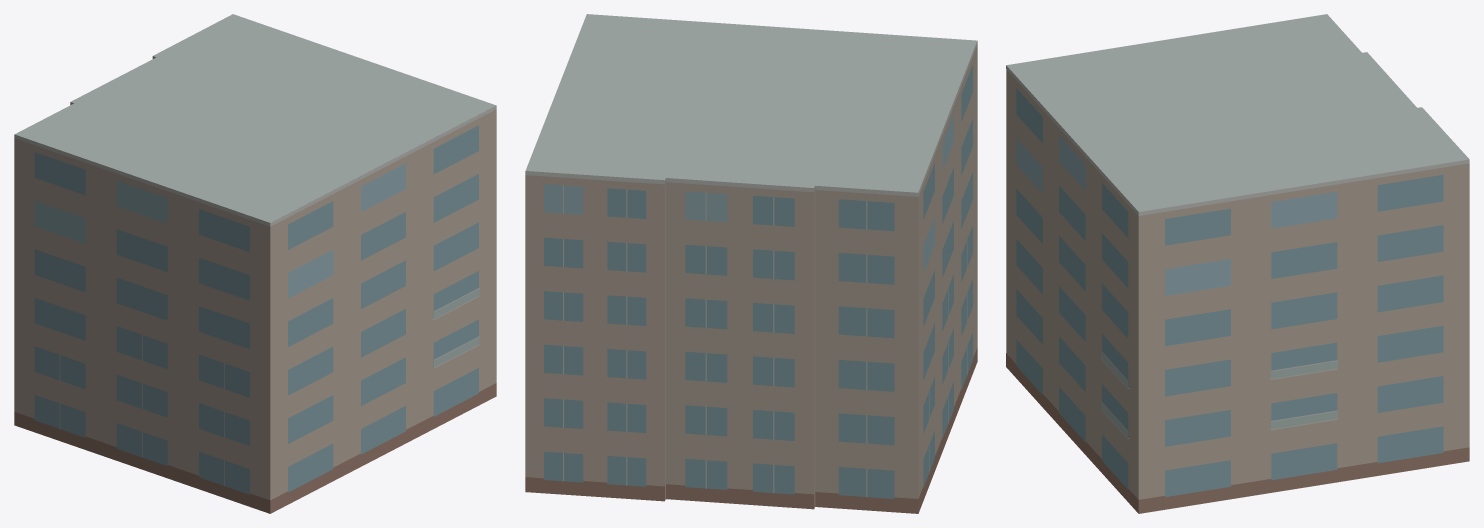
The model's file is survey-upis-32755936.glb.
3 views of the same model, side by side, from view 1: azimuth 30°, elevation 25°; view 2: azimuth 150°, elevation 25°; view 3: azimuth 270°, elevation 25° (orthographic). The views are drawn at different scales.
Visible parts, largest first — view 1: survey-upis-32755936.tmp; view 2: survey-upis-32755936.tmp; view 3: survey-upis-32755936.tmp.
Boxes of the visible parts, <box> form: survey-upis-32755936.tmp: <box>14,14,496,513</box>; survey-upis-32755936.tmp: <box>525,14,977,513</box>; survey-upis-32755936.tmp: <box>1006,14,1469,513</box>.
Size of the model in its own units: 26.46 by 18.8 by 26.17.
